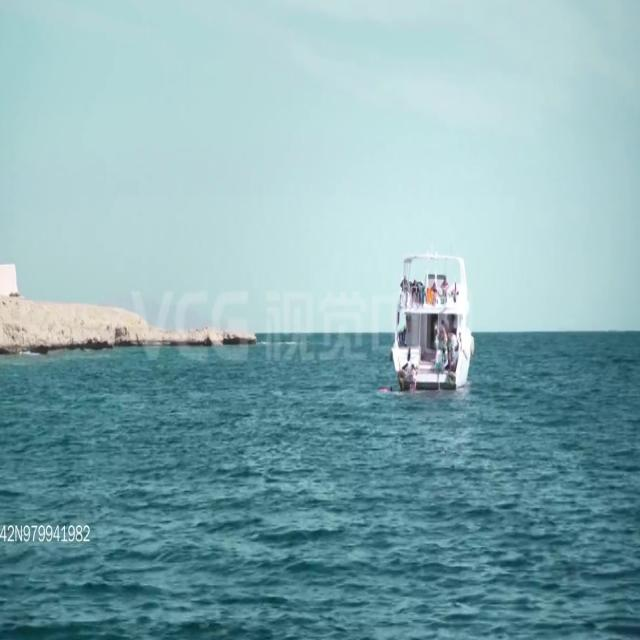houseboat: (394, 240, 472, 394)
